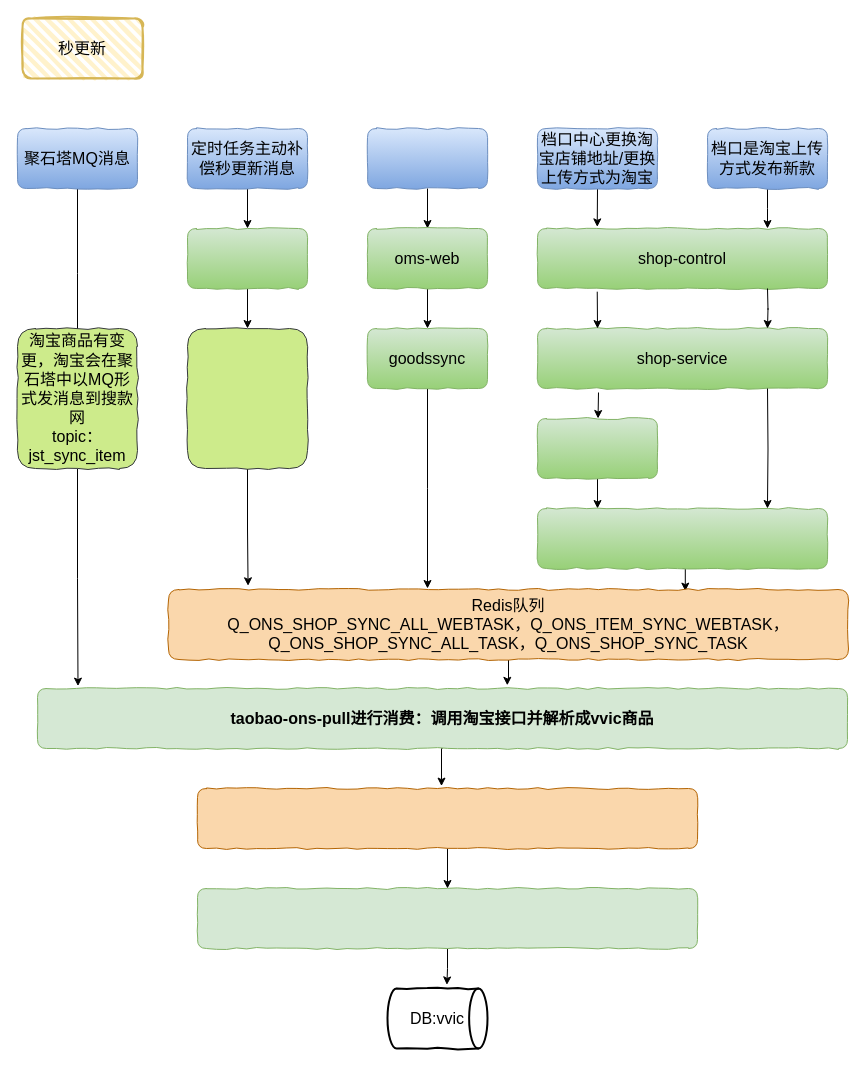
The diagram is 866 pixels wide and 1066 high, and some of its shapes have lost their labels. The shapes that lost their labels are listed below. From the top down, each one's centre as x and y in pixels, then its label:
At (427,158): "运营后台秒更新商品同步".
At (247,258): "goodssyncons 每10min跑一次".
At (247,398): "当前时间是【4/10/16】点，同步所有档口下的所有商品，否则只同步最近1h有修改的".
At (597,448): "serviedubbo".
At (682,538): "platformdubbo".
At (447,818): "Redis队列：Q_ONS_ITEM_SYNC".
At (447,918): "goodssync进行消费：商品同步入库".
